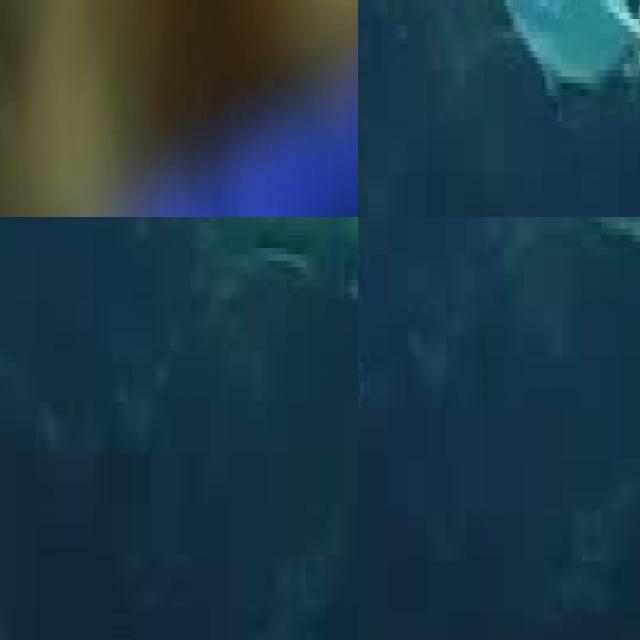fish: (0, 0, 358, 217)
